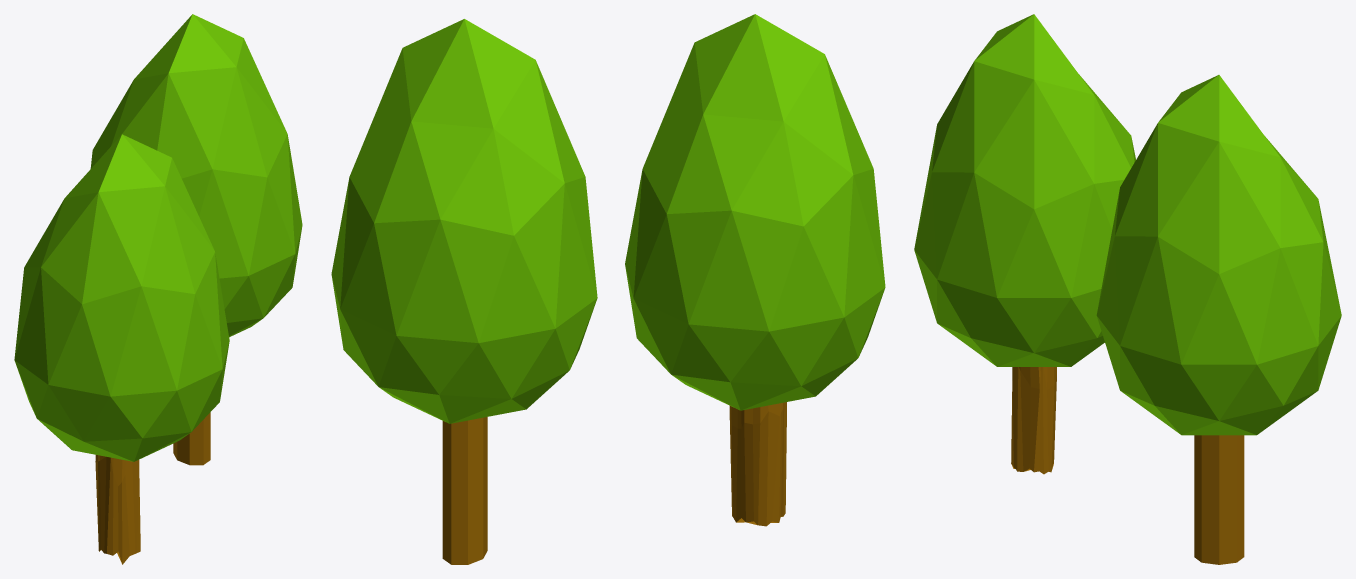
The model's file is Arbres_Lunatic.fbx.
The picture shows the model from 3 angles, left to right: view 1: azimuth 30°, elevation 25°; view 2: azimuth 150°, elevation 25°; view 3: azimuth 270°, elevation 25°; orthographic projection. The views are drawn at different scales.
Visible parts, largest first — view 1: Icosphere_001, Icosphere, Cylinder, Cylinder_001; view 2: Icosphere, Icosphere_001, Cylinder, Cylinder_001; view 3: Icosphere, Icosphere_001, Cylinder_001, Cylinder.
Boxes of the visible parts, x1=… form: Icosphere_001: x1=14, y1=134, x2=229, y2=461; Icosphere: x1=90, y1=14, x2=302, y2=337; Cylinder: x1=95, y1=455, x2=140, y2=564; Cylinder_001: x1=173, y1=412, x2=210, y2=465; Icosphere: x1=331, y1=19, x2=597, y2=423; Icosphere_001: x1=625, y1=14, x2=885, y2=410; Cylinder: x1=729, y1=402, x2=786, y2=526; Cylinder_001: x1=442, y1=417, x2=487, y2=564; Icosphere: x1=1096, y1=75, x2=1341, y2=435; Icosphere_001: x1=914, y1=14, x2=1135, y2=366; Cylinder_001: x1=1194, y1=435, x2=1244, y2=564; Cylinder: x1=1011, y1=367, x2=1056, y2=474.
Size of the model in its own units: 5.93 by 7.41 by 5.95.
